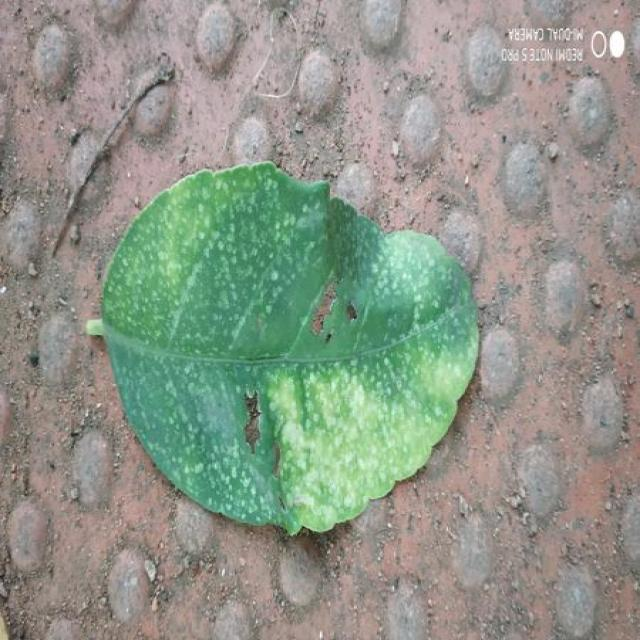CVC: (102, 162, 477, 532)
